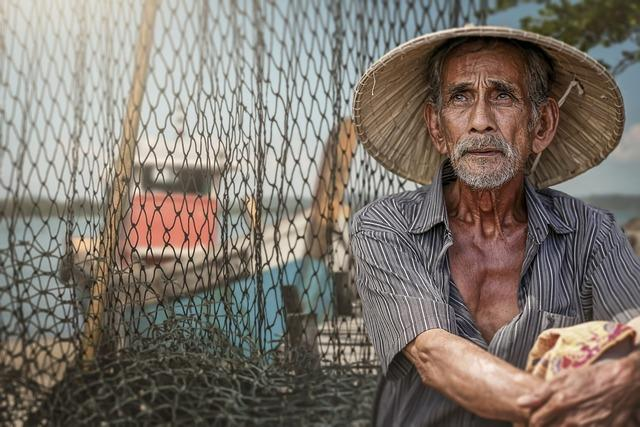Non_Gorille: (204, 4, 640, 427)
